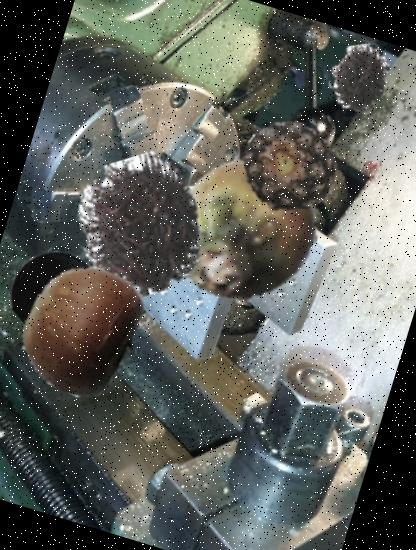Cactus: (152, 138, 336, 322)
Grape: (1, 237, 115, 352)
Nut: (0, 248, 159, 407)
Pineapple: (228, 105, 352, 230)
Rambutan: (53, 140, 225, 312), (318, 36, 400, 118)
